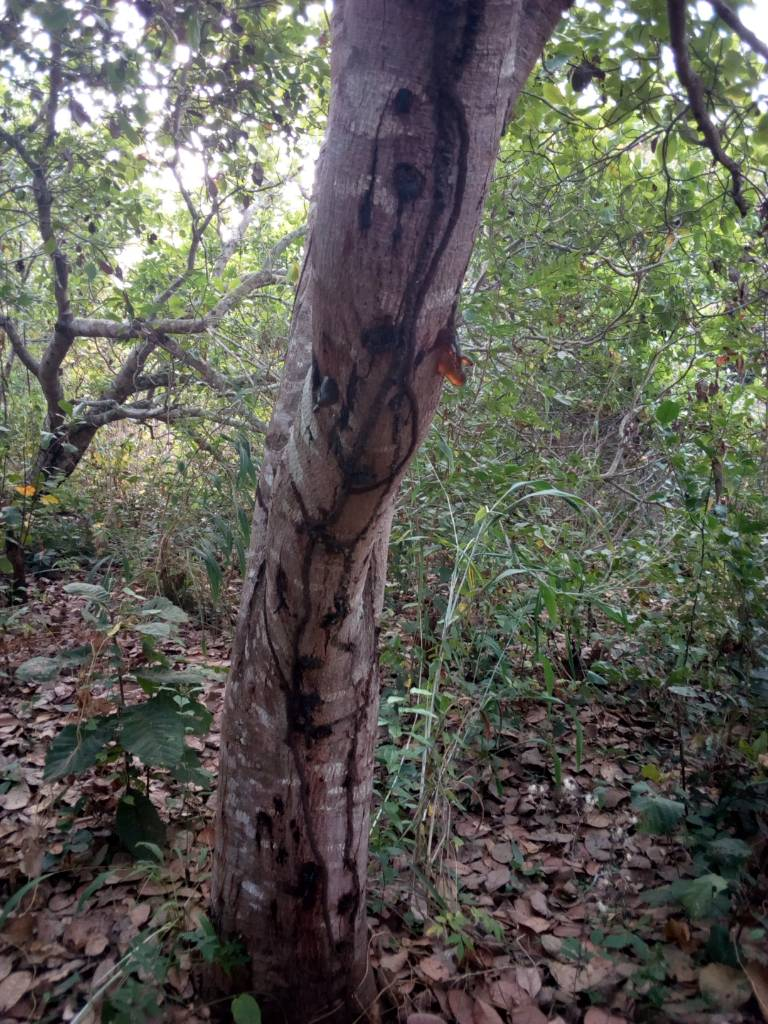Termites: (286, 671, 366, 996), (405, 8, 479, 249), (346, 344, 416, 510)
